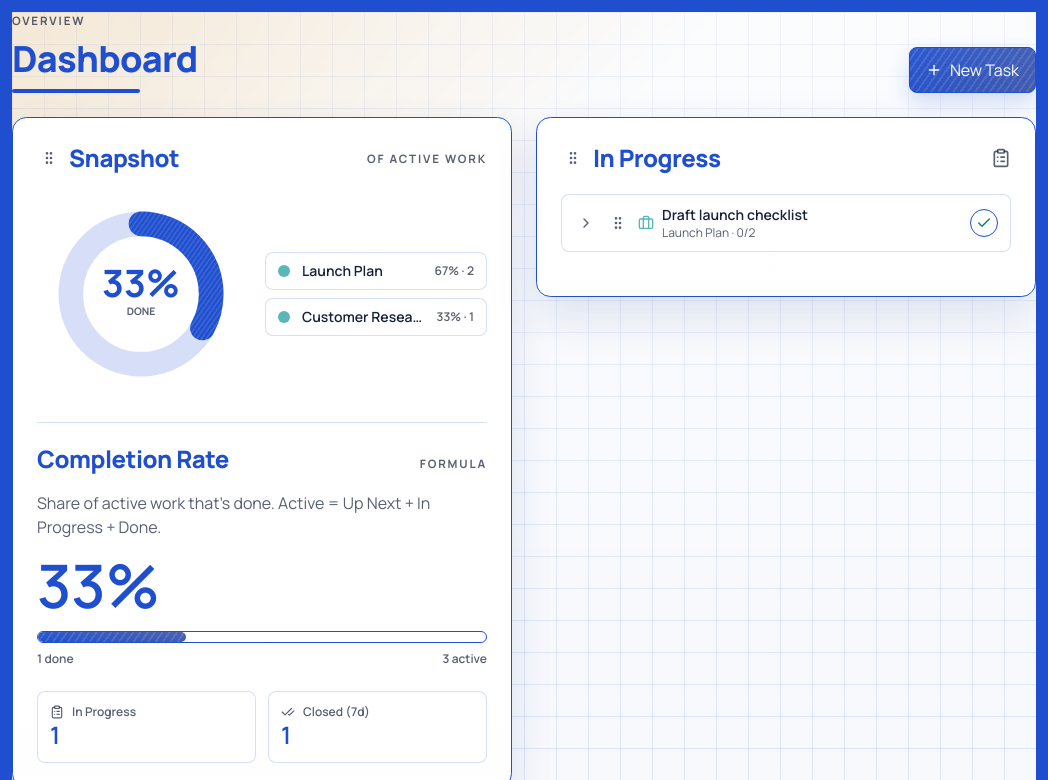
Test: DashboardOverview in-progress panel › renames a subtask title optimistically and patches the subtask
Click the button named "Show subtasks for Draft launch checklist": x=586, y=223 [574,211,598,235]
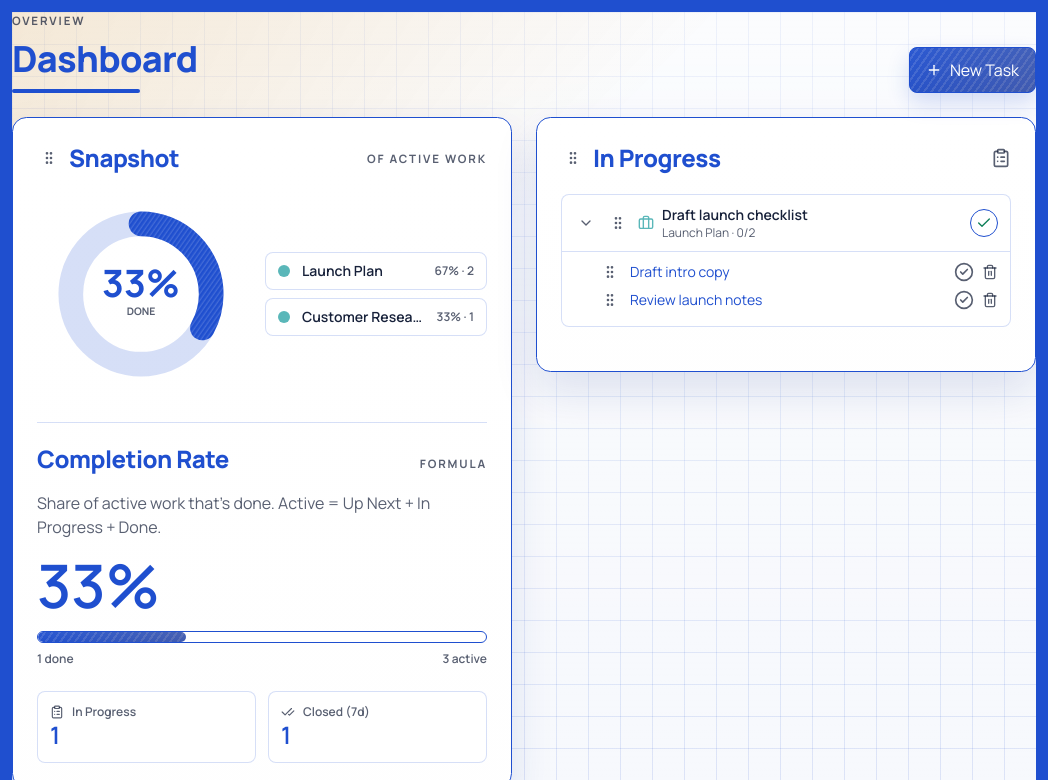
Click the button with aria-label "Edit subtask Draft intro copy": x=680, y=272 [630,262,946,282]
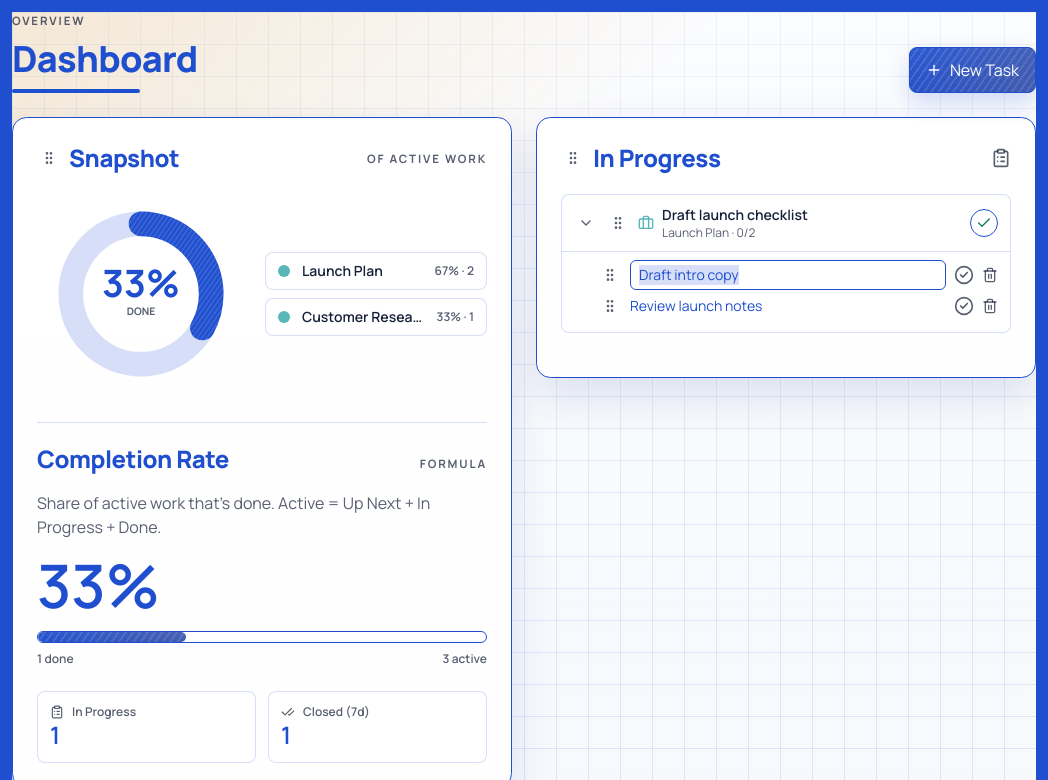
Replace the text in the field named "Subtask title for Draft intro copy" with "Revise intro copy": x=788, y=275 [630,260,946,290]
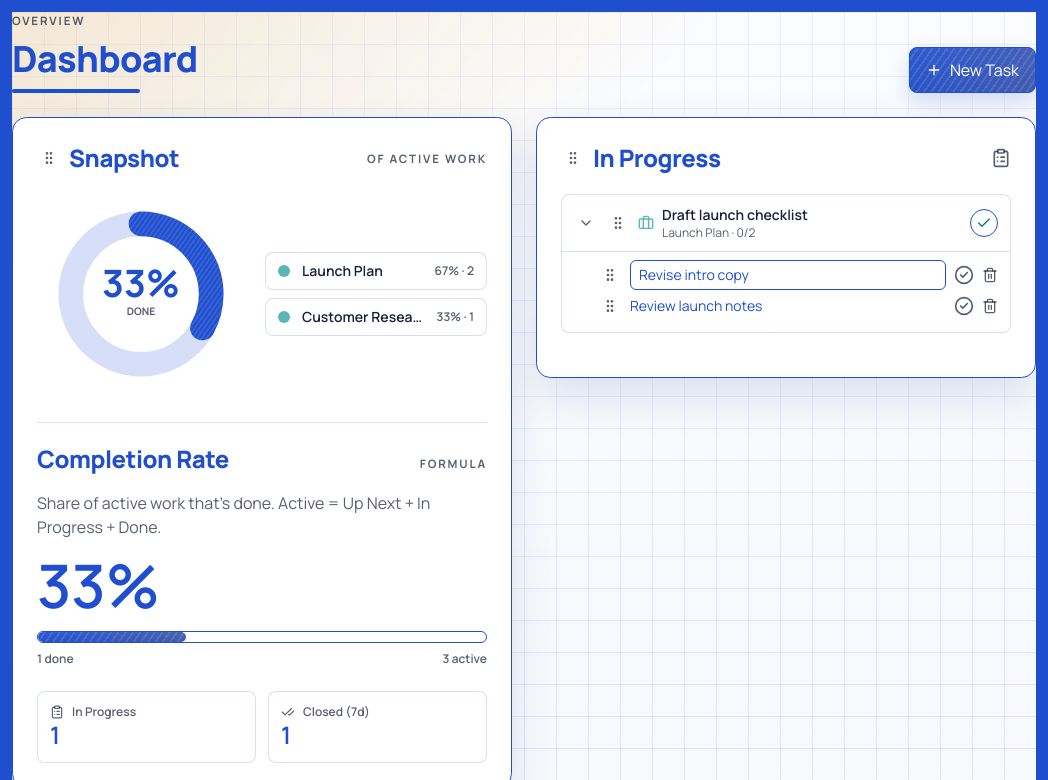
Press Enter in the field named "Subtask title for Draft intro copy", box [630,260,946,290]
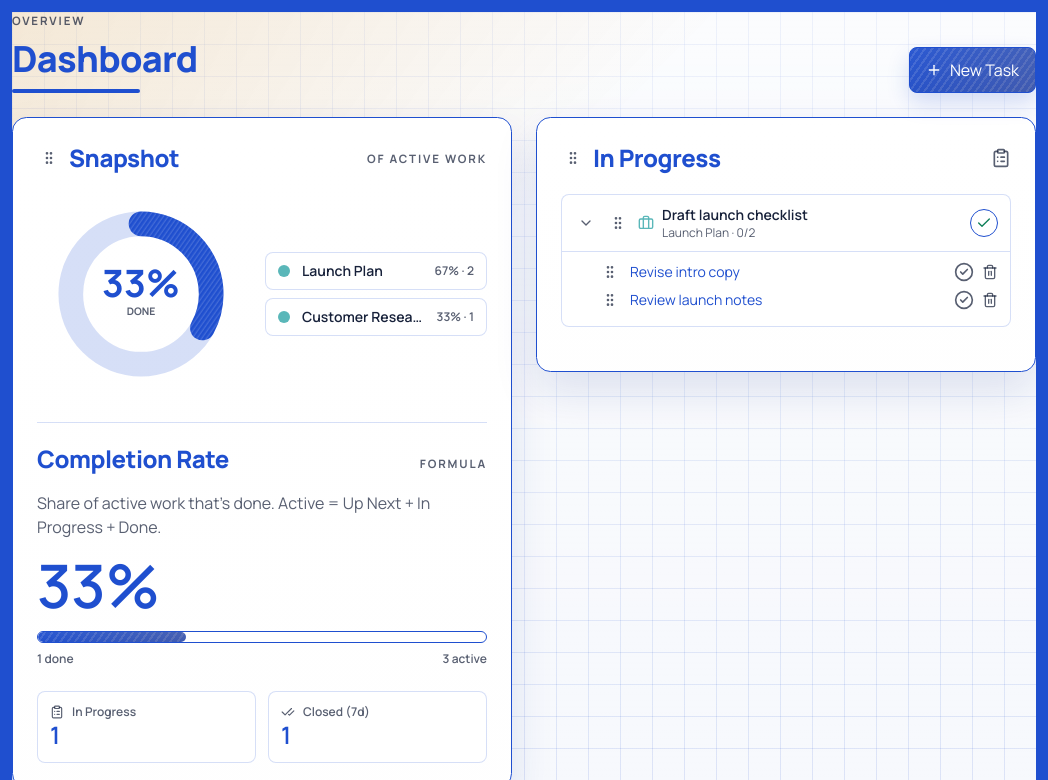
Expected: the button with aria-label "Edit subtask Review launch notes" is shown, [630,290,946,310]
Expected: the button with aria-label "Edit subtask Revise intro copy" is shown, [630,262,946,282]
